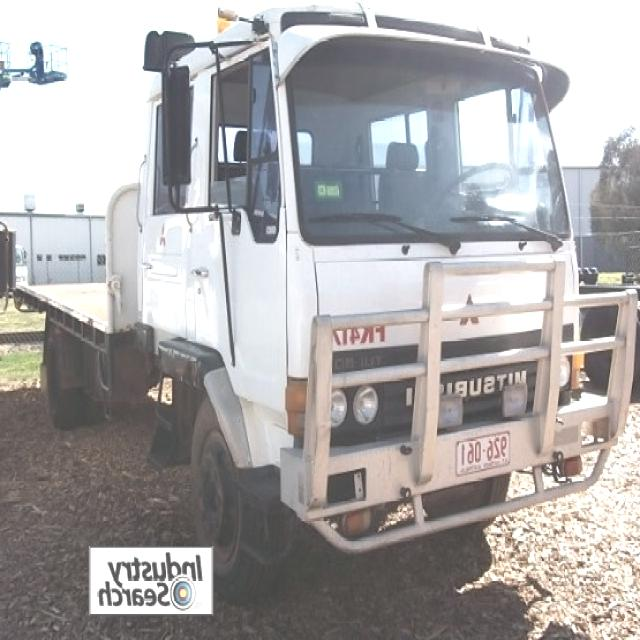truck: (24, 0, 640, 558)
